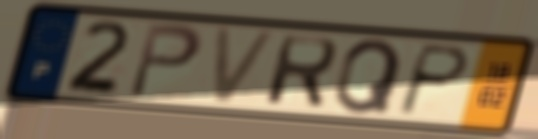2: (62, 19, 131, 97)
P: (125, 20, 205, 101), (393, 41, 474, 118)
Q: (331, 37, 406, 117)
R: (262, 33, 341, 111)
V: (209, 24, 282, 108)
